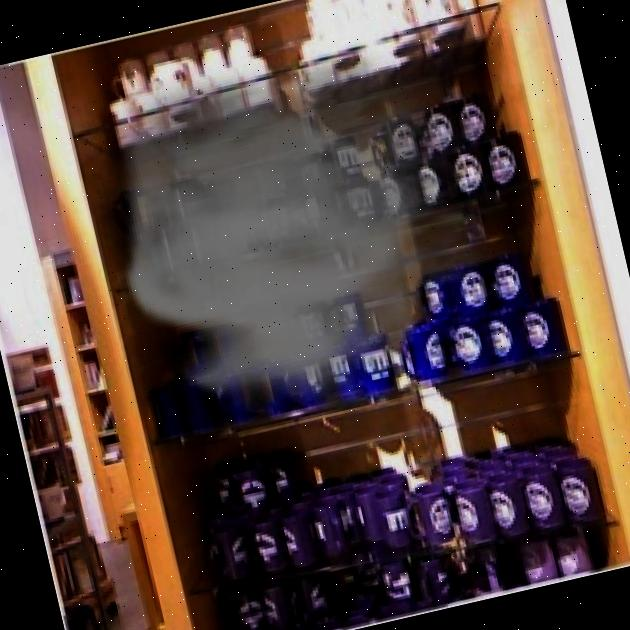smoke: (74, 2, 557, 445)
